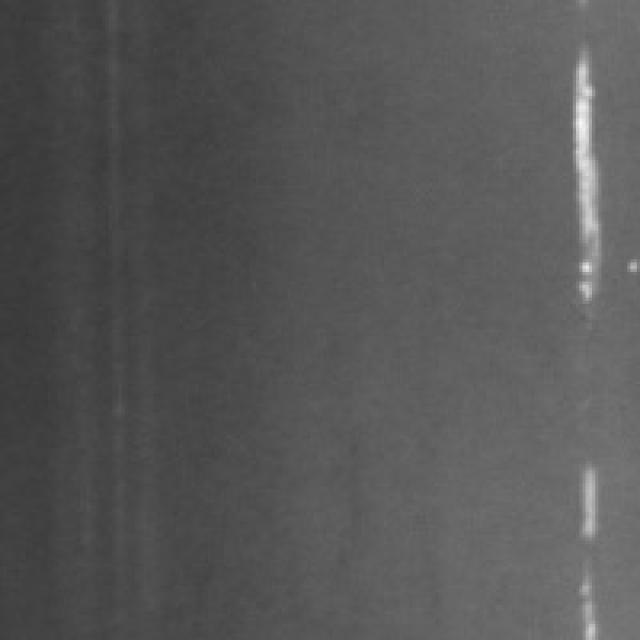scratches: (566, 42, 618, 310), (573, 458, 614, 634)
